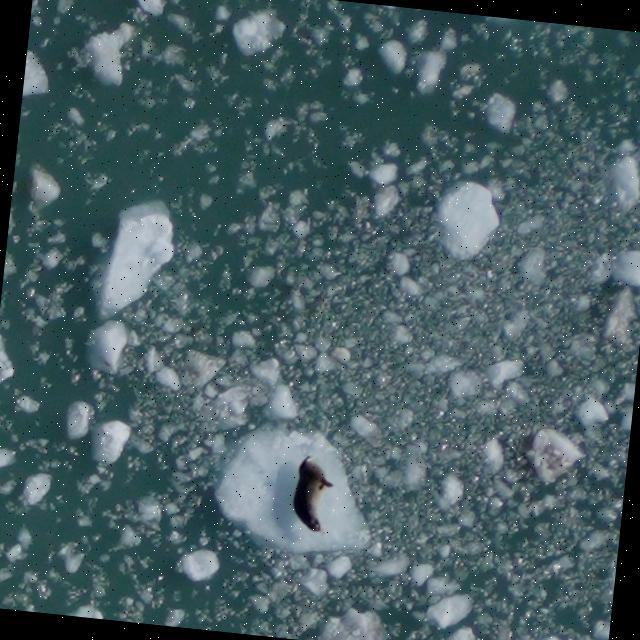seal: (288, 448, 337, 535)
